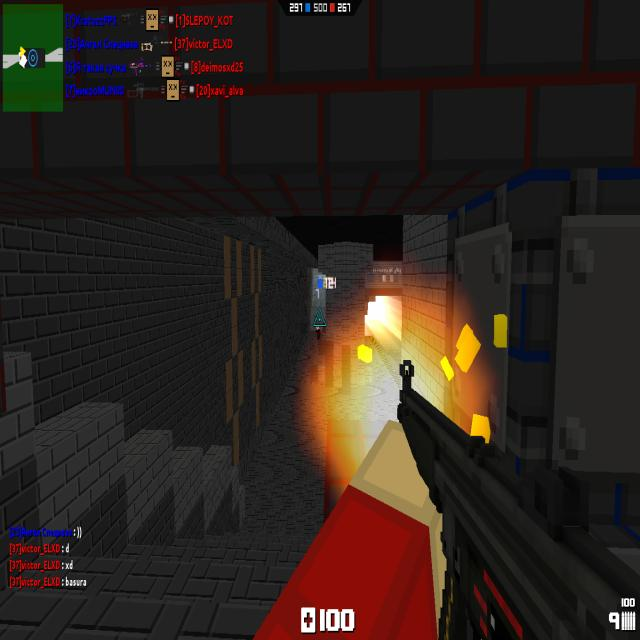enemy: (315, 326, 321, 342)
